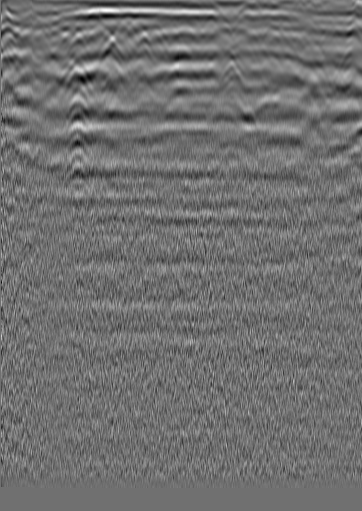가스: (205, 71, 259, 116)
상수: (302, 34, 322, 54)
오수: (22, 18, 51, 43)
우수: (134, 31, 154, 51)
